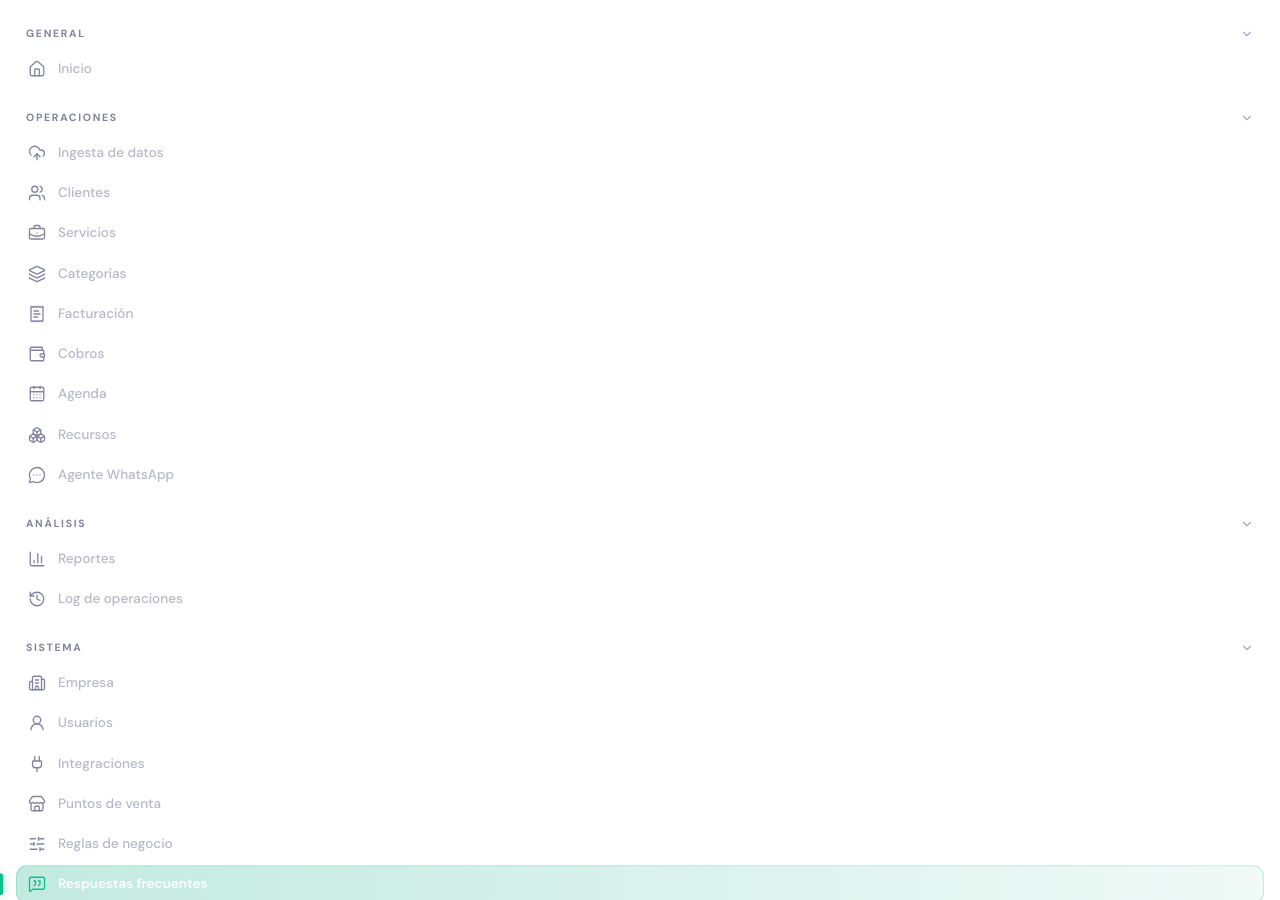
indicador y pie de la barra › indica con un punto el grupo cerrado que contiene la pantalla actual
The image size is (1280, 900).
Click the button "Sistema".
click(54, 648)  # box [16,634,1264,664]
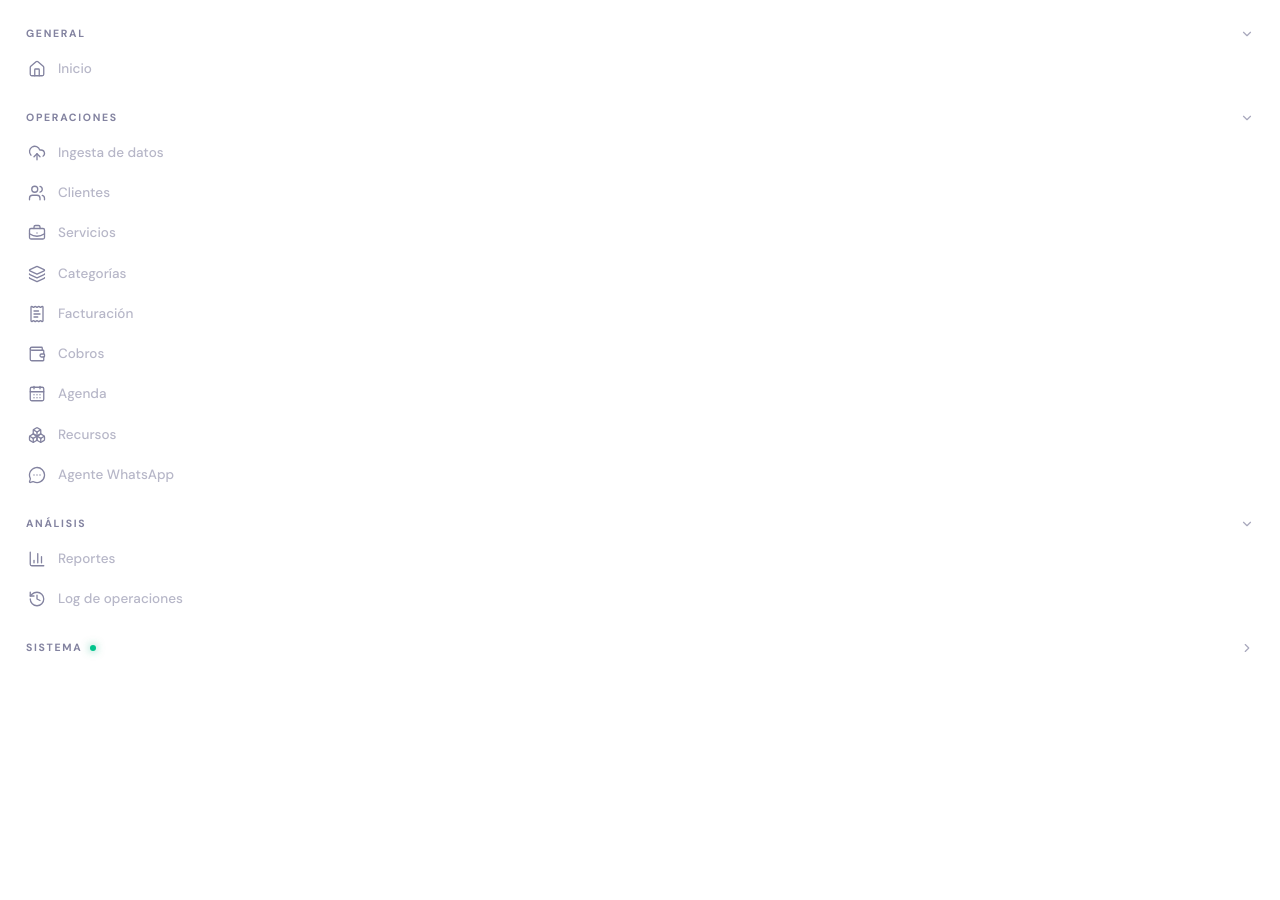
Expected: the picture named "contiene la pantalla actual" is shown, [90,645,96,651]
